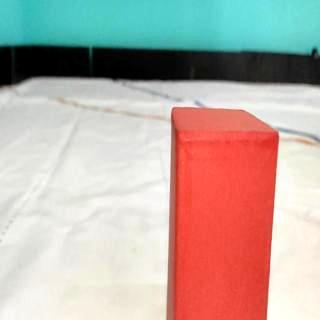redbox: (168, 105, 279, 320)
